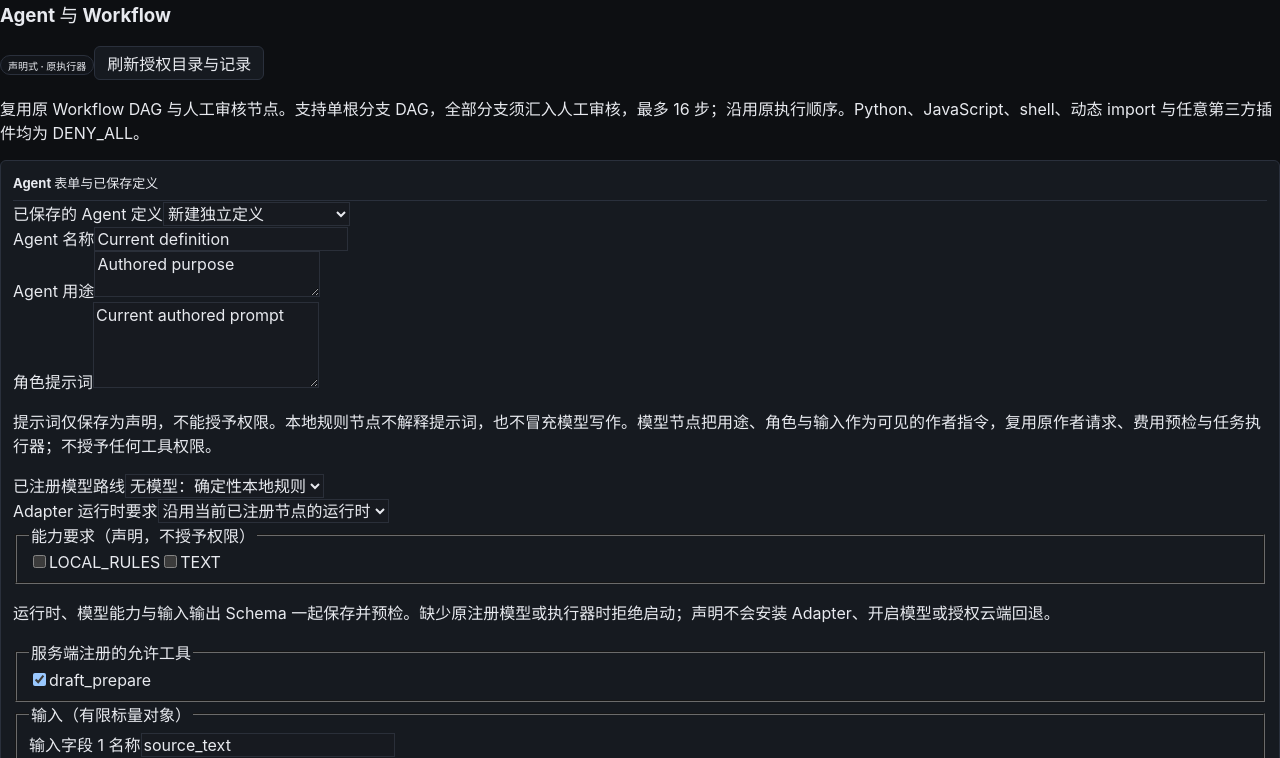
retires pending discard confirmation on a newer edit or directory refresh
Select "Current definition · v2" in the dropdown labelled "已保存的 Agent 定义". click: point(256, 214)
box: [163, 202, 350, 226]
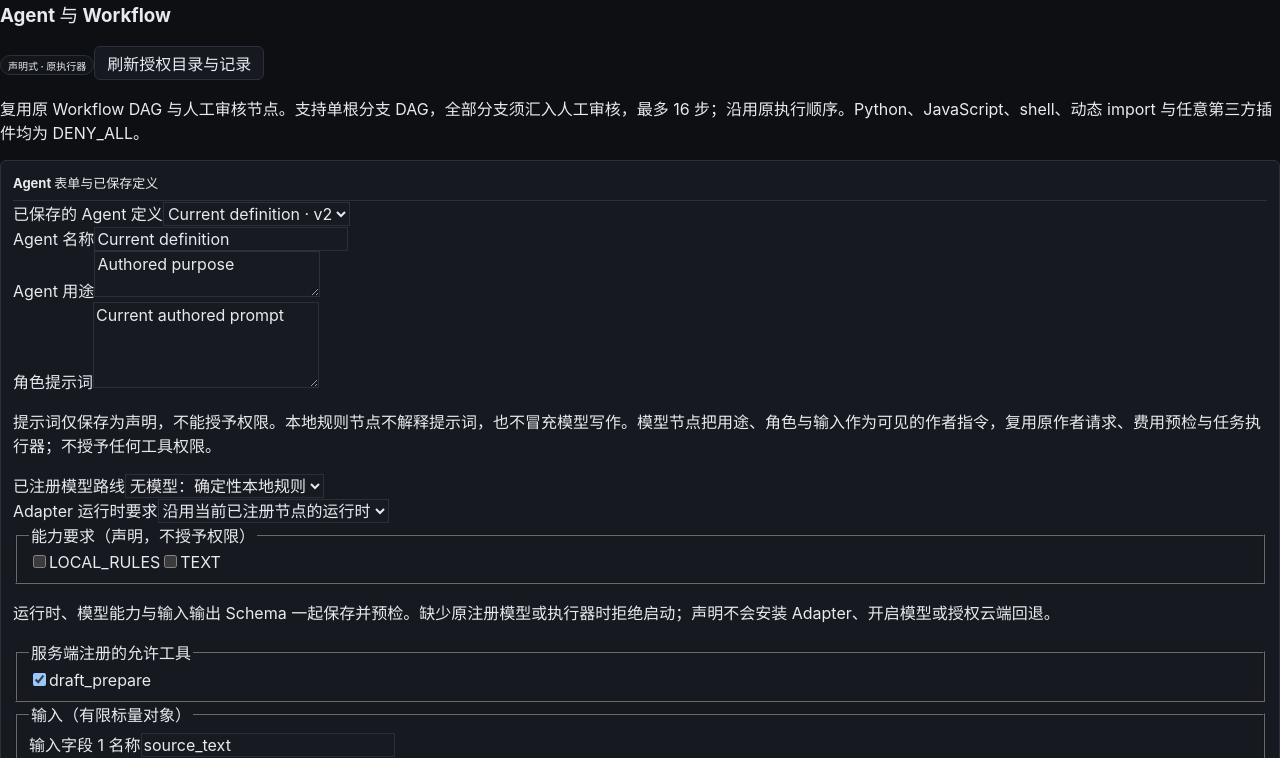
Replace the text in the text box labelled "角色提示词" with "First unsaved draft". click: point(206, 345)
box: [93, 302, 319, 388]
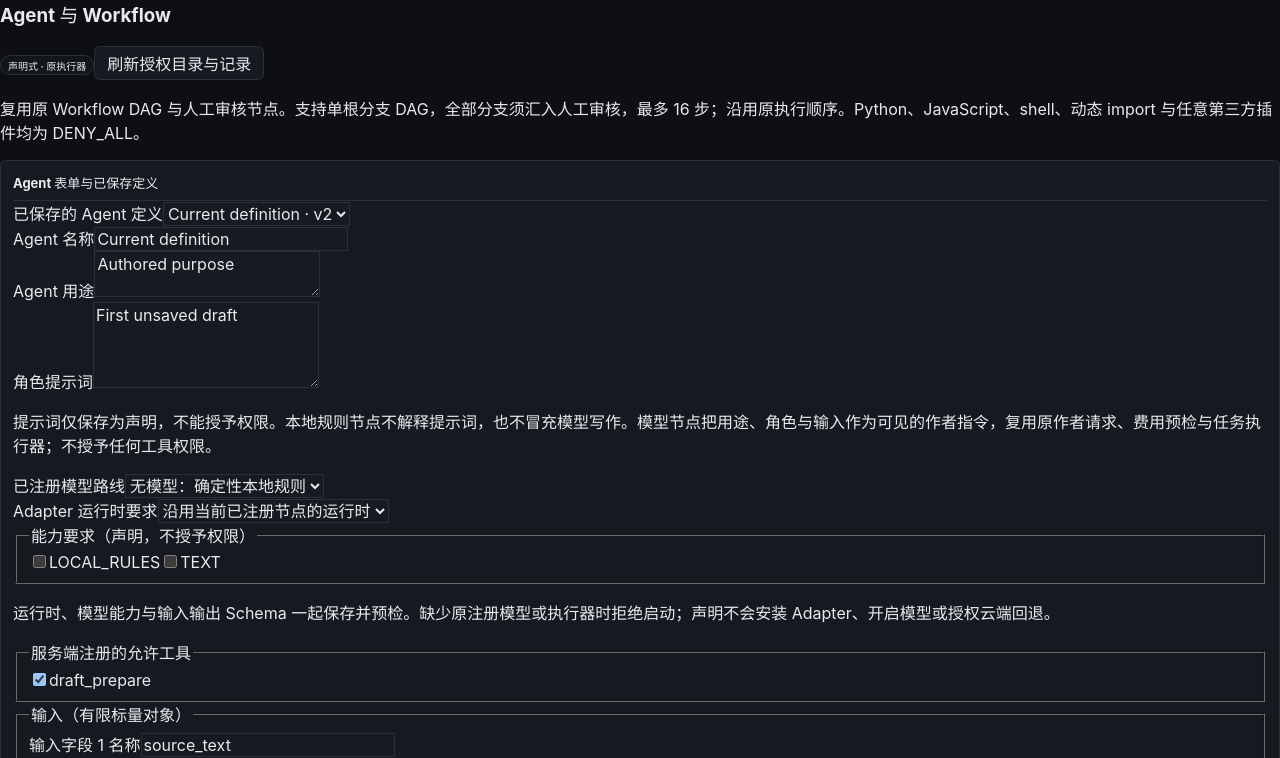
Select "新建独立定义" in the dropdown labelled "已保存的 Agent 定义". click: point(256, 214)
box: [163, 202, 350, 226]
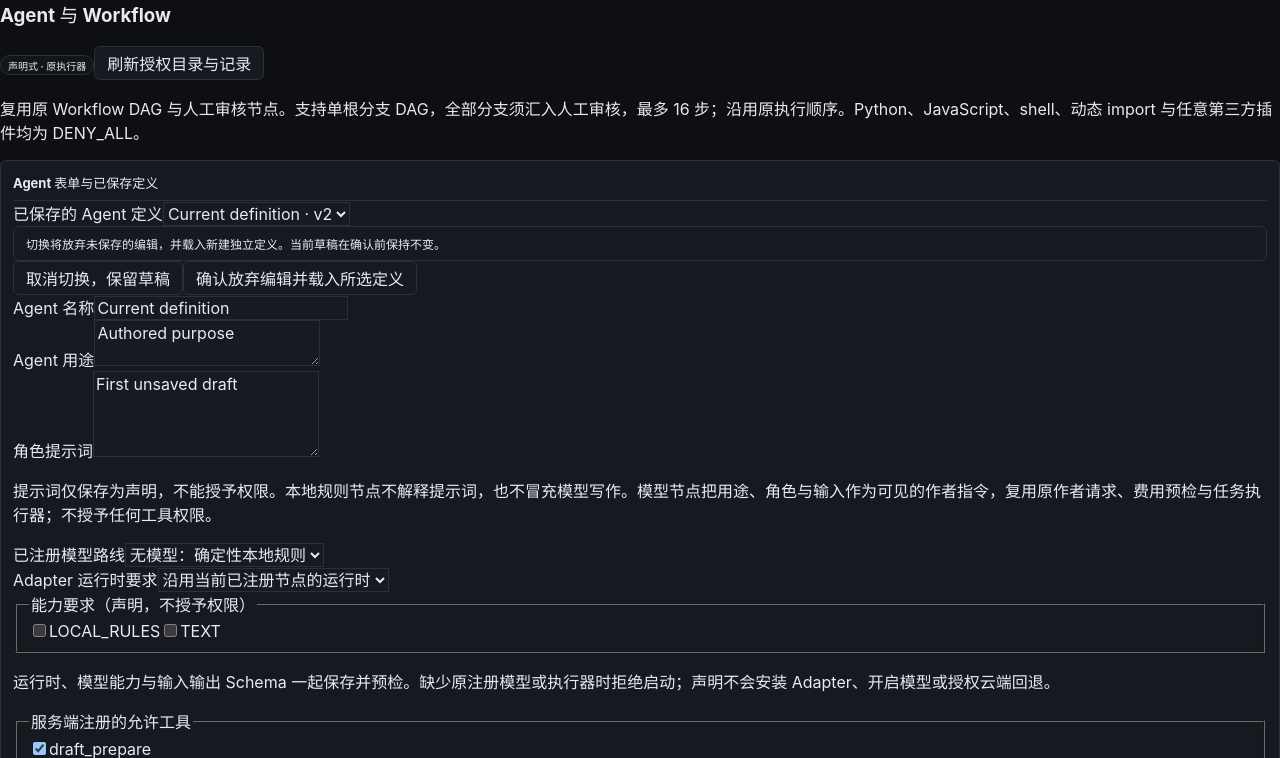
Result: the button "确认放弃编辑并载入所选定义" is shown at [183, 261, 417, 295]
Replace the text in the text box labelled "角色提示词" with "Later unsaved draft". click: point(206, 414)
box: [93, 371, 319, 457]
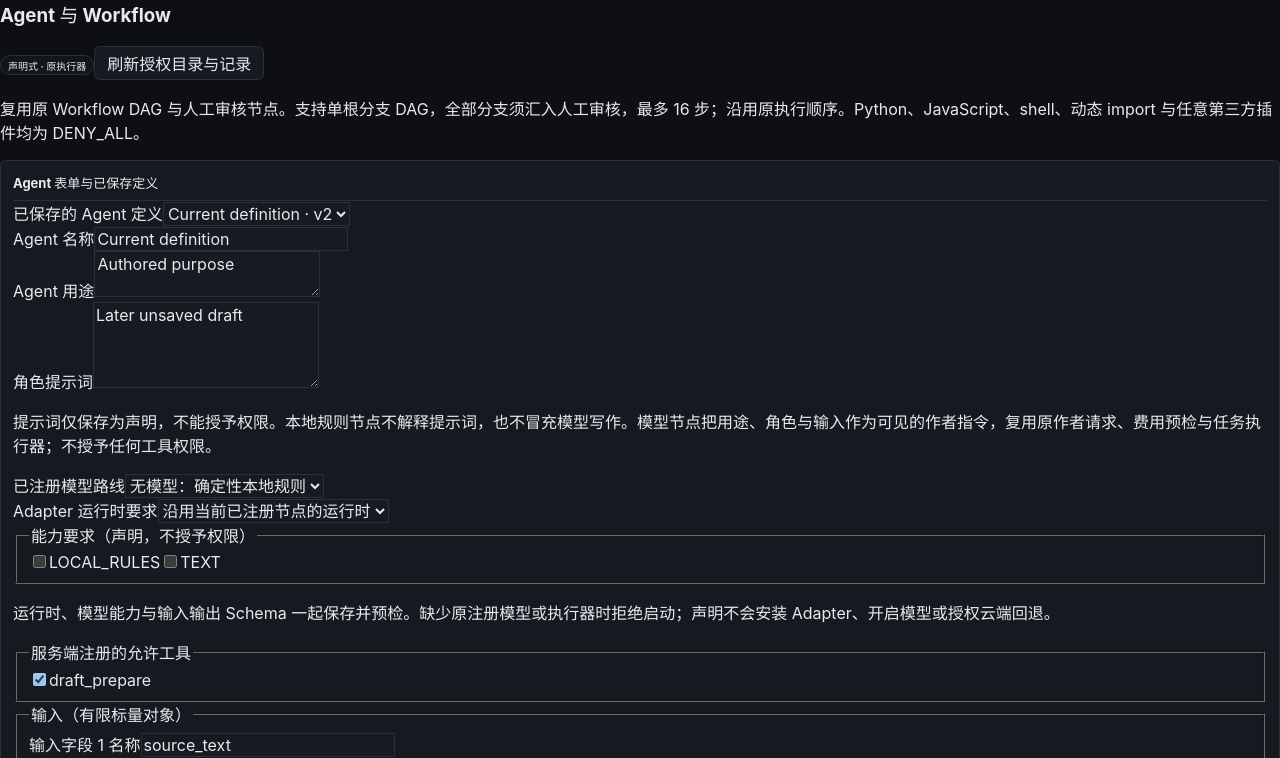
Result: the button "确认放弃编辑并载入所选定义" is gone
Select "新建独立定义" in the dropdown labelled "已保存的 Agent 定义". click: point(256, 214)
box: [163, 202, 350, 226]
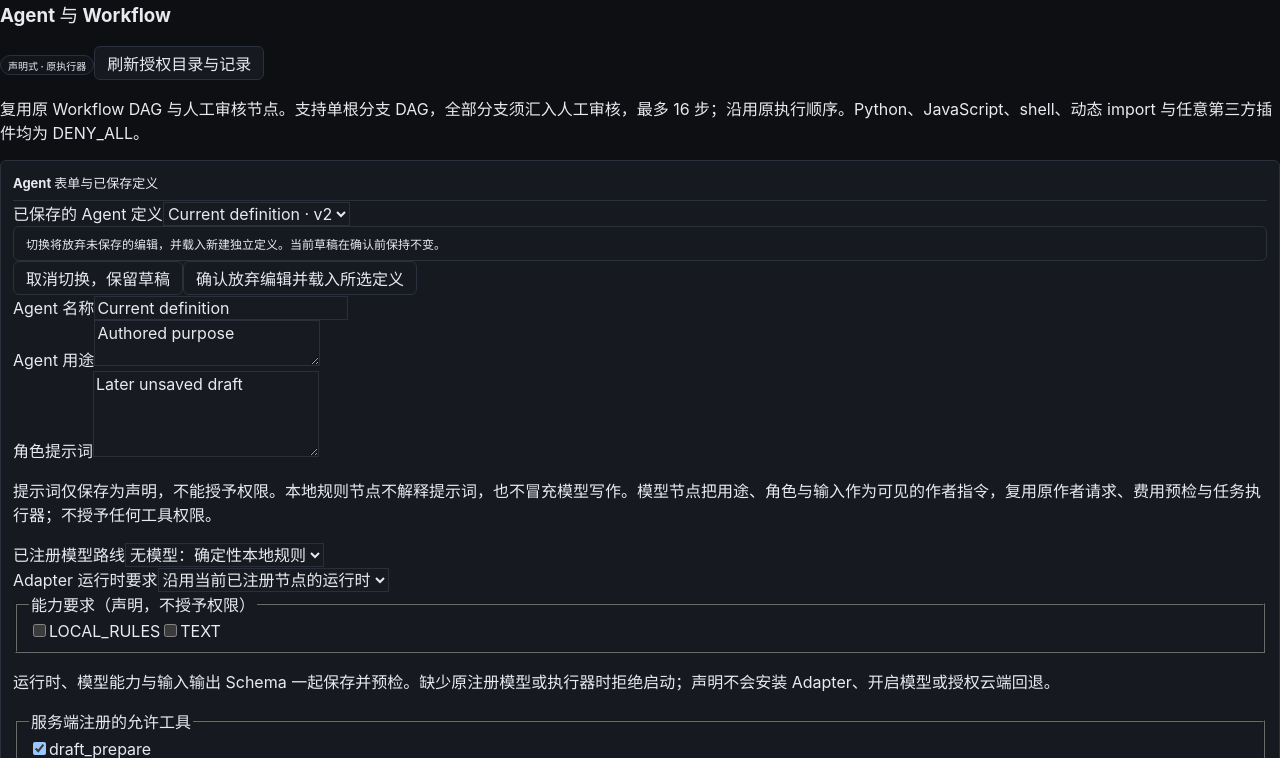
Click the button "刷新授权目录与记录". click: point(179, 63)
box: [94, 46, 264, 80]
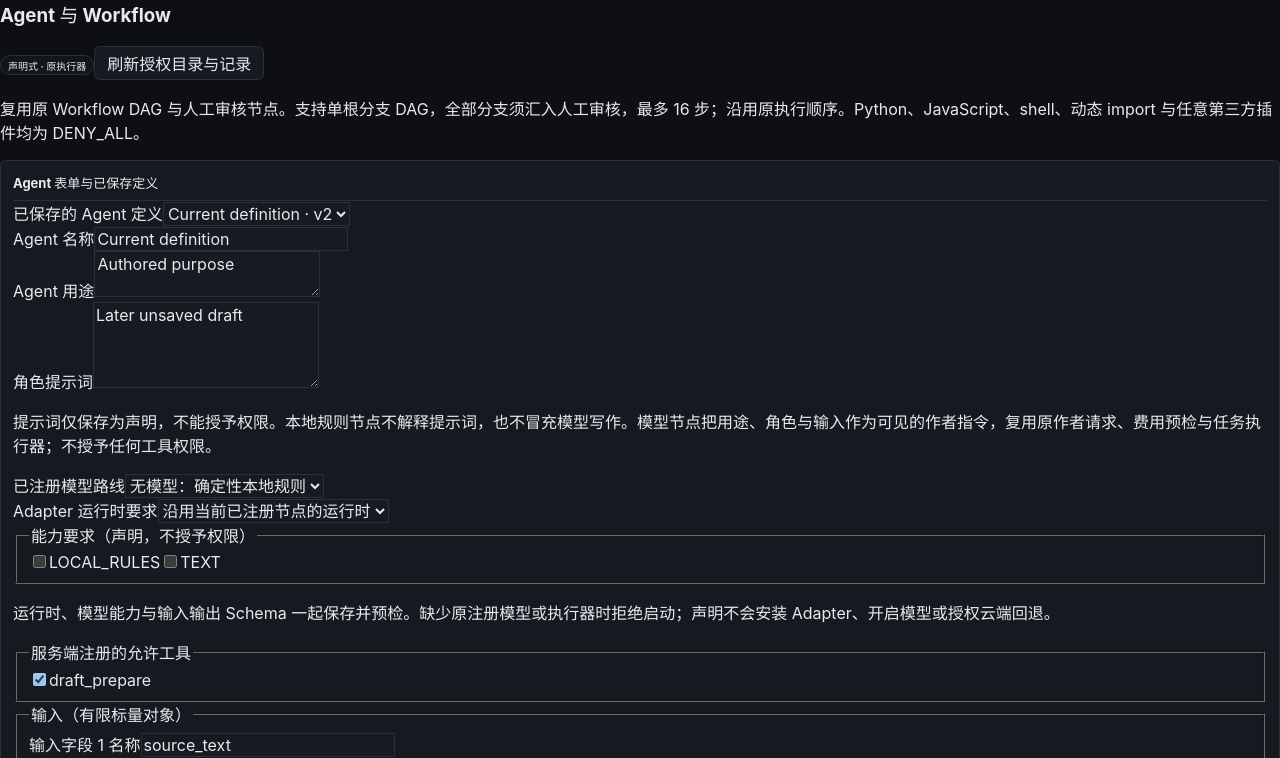
Expected: the dropdown labelled "已保存的 Agent 定义" is enabled, [163, 202, 350, 226]
Result: the button "确认放弃编辑并载入所选定义" is gone
